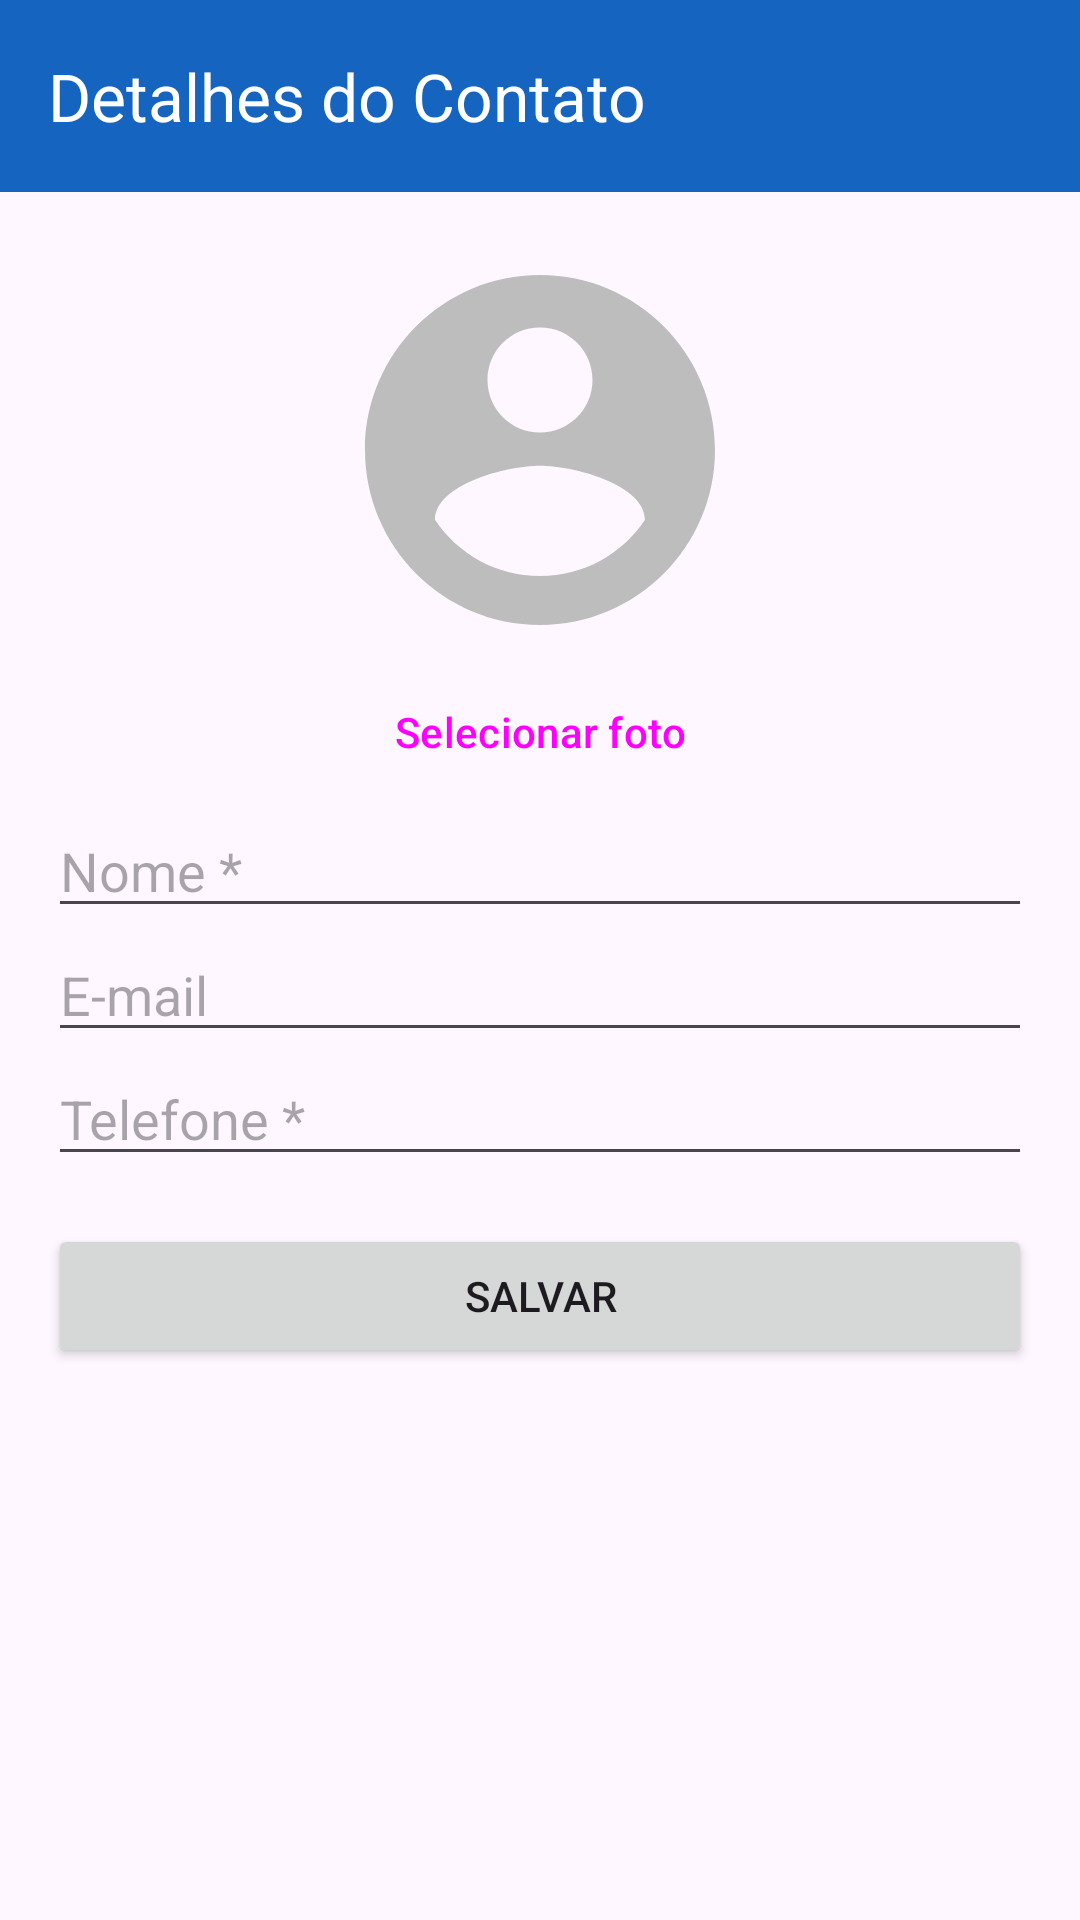

Where icons sit on this 1080×1920 app screen, as (left=x1, top=y1, right=x2, bottom=y2):
Foto do contato: (left=365, top=275, right=715, bottom=625)
